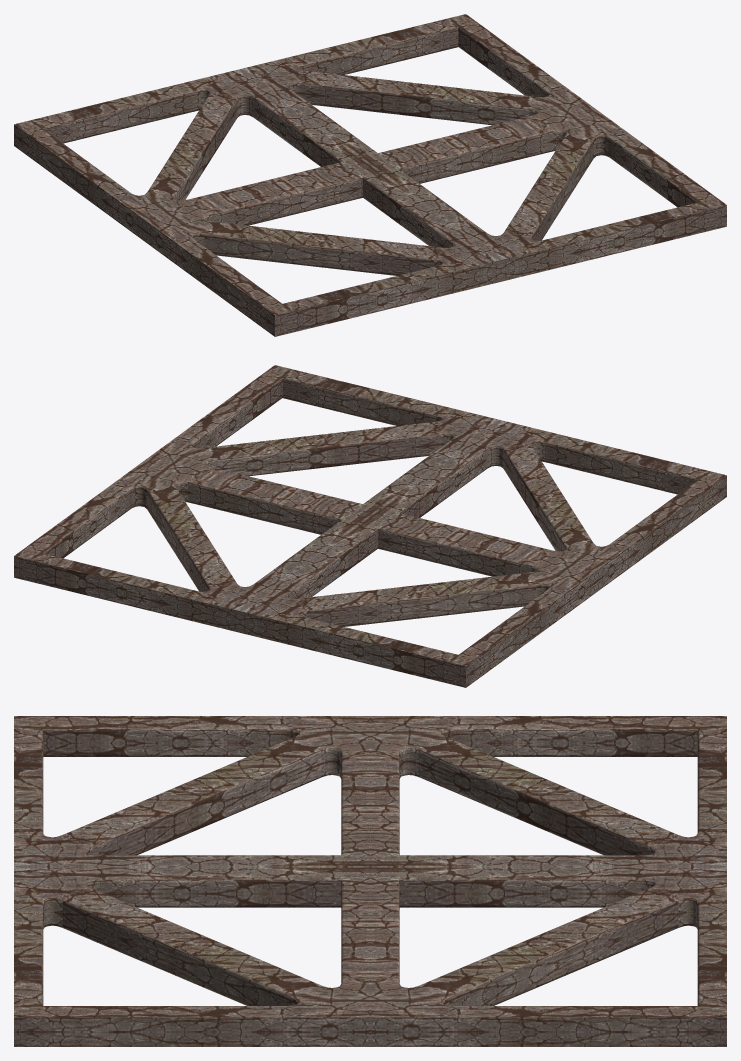
File: wall_pyl_RLM.FBX
3 views of the same model, one above another, from view 1: azimuth 30°, elevation 25°; view 2: azimuth 150°, elevation 25°; view 3: azimuth 270°, elevation 25° (orthographic). The views are drawn at different scales.
Visible parts, largest first — view 1: wall_pyl_RLM; view 2: wall_pyl_RLM; view 3: wall_pyl_RLM.
Part boxes in pixels (x1,y1,x2,y2): wall_pyl_RLM: (14,14,726,336); wall_pyl_RLM: (14,365,726,687); wall_pyl_RLM: (14,716,726,1046).
Bounding box in the file's own units: 8 × 8 × 0.3662.
